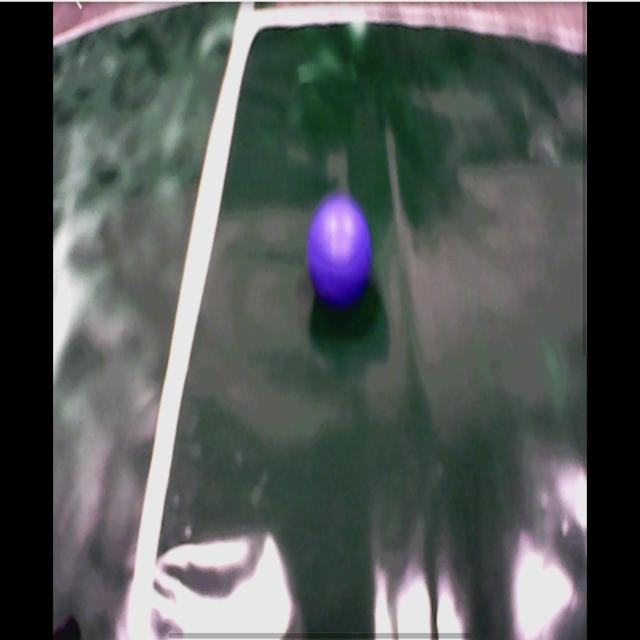ball: (307, 194, 372, 304)
